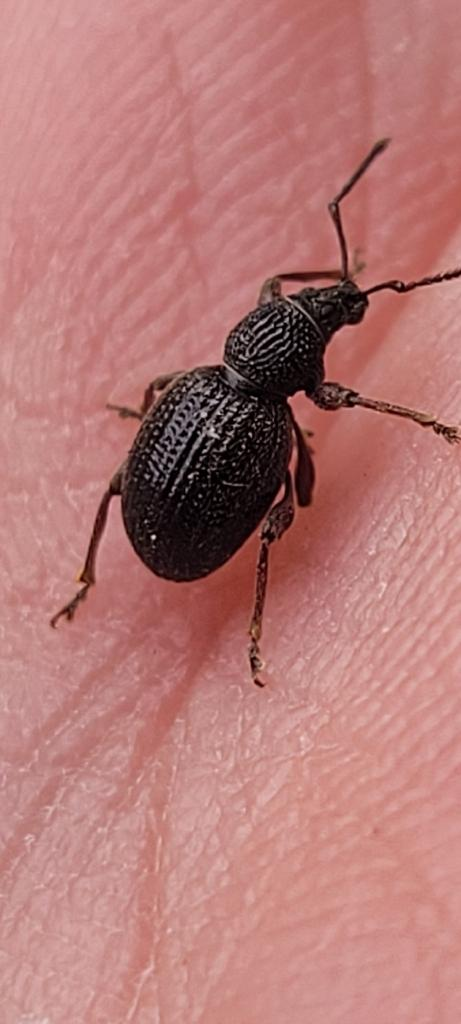weevils: (4, 93, 461, 713)
